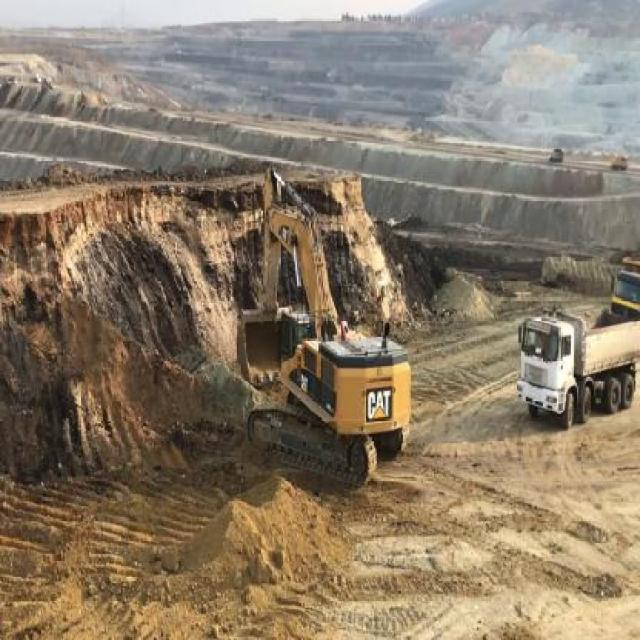Dump Truck: (513, 304, 639, 428), (608, 255, 638, 328), (610, 152, 628, 171), (548, 148, 564, 160)
Excavator: (236, 166, 412, 486)
